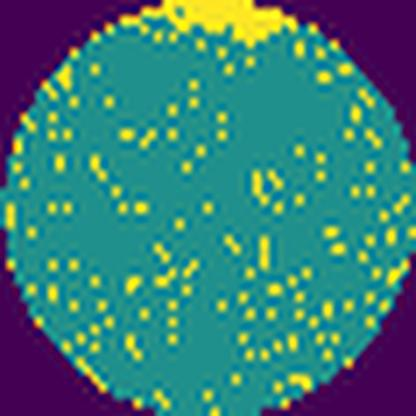Edge-Loc: (142, 0, 297, 51)
